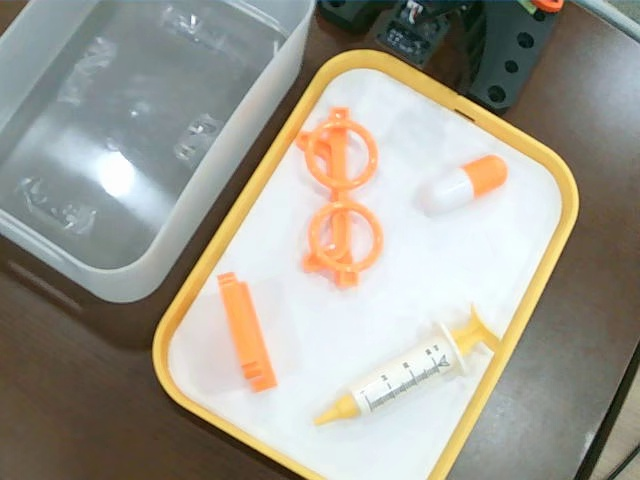pill: (425, 155, 509, 213)
syringe: (315, 303, 501, 426)
